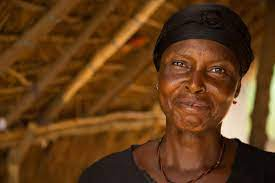person: (152, 4, 253, 141)
